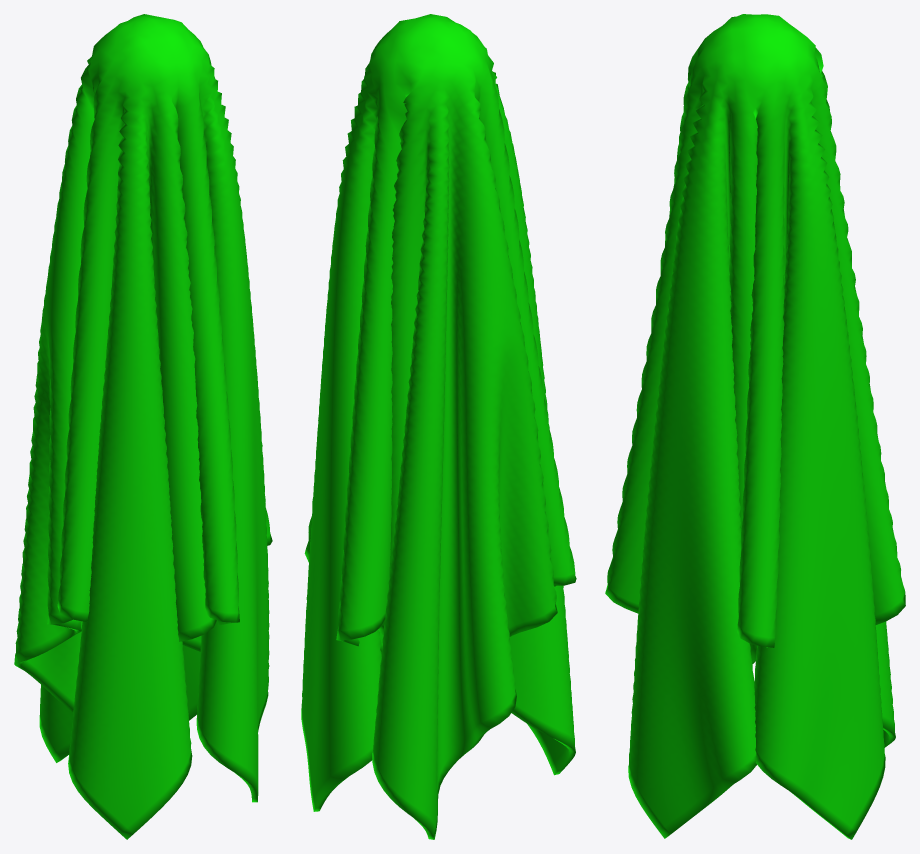
Rendered from cloth2.glb.
The picture shows the model from 3 angles, left to right: view 1: azimuth 30°, elevation 25°; view 2: azimuth 150°, elevation 25°; view 3: azimuth 270°, elevation 25°; orthographic projection. The views are drawn at different scales.
Parts seen in each view (by area): view 1: Plane; view 2: Plane; view 3: Plane.
Boxes of the visible parts, bbox=[...] form: Plane: bbox=[14, 14, 272, 839]; Plane: bbox=[301, 14, 576, 839]; Plane: bbox=[605, 14, 905, 839].
Size of the model in its own units: 5.03 by 15.53 by 5.36.
